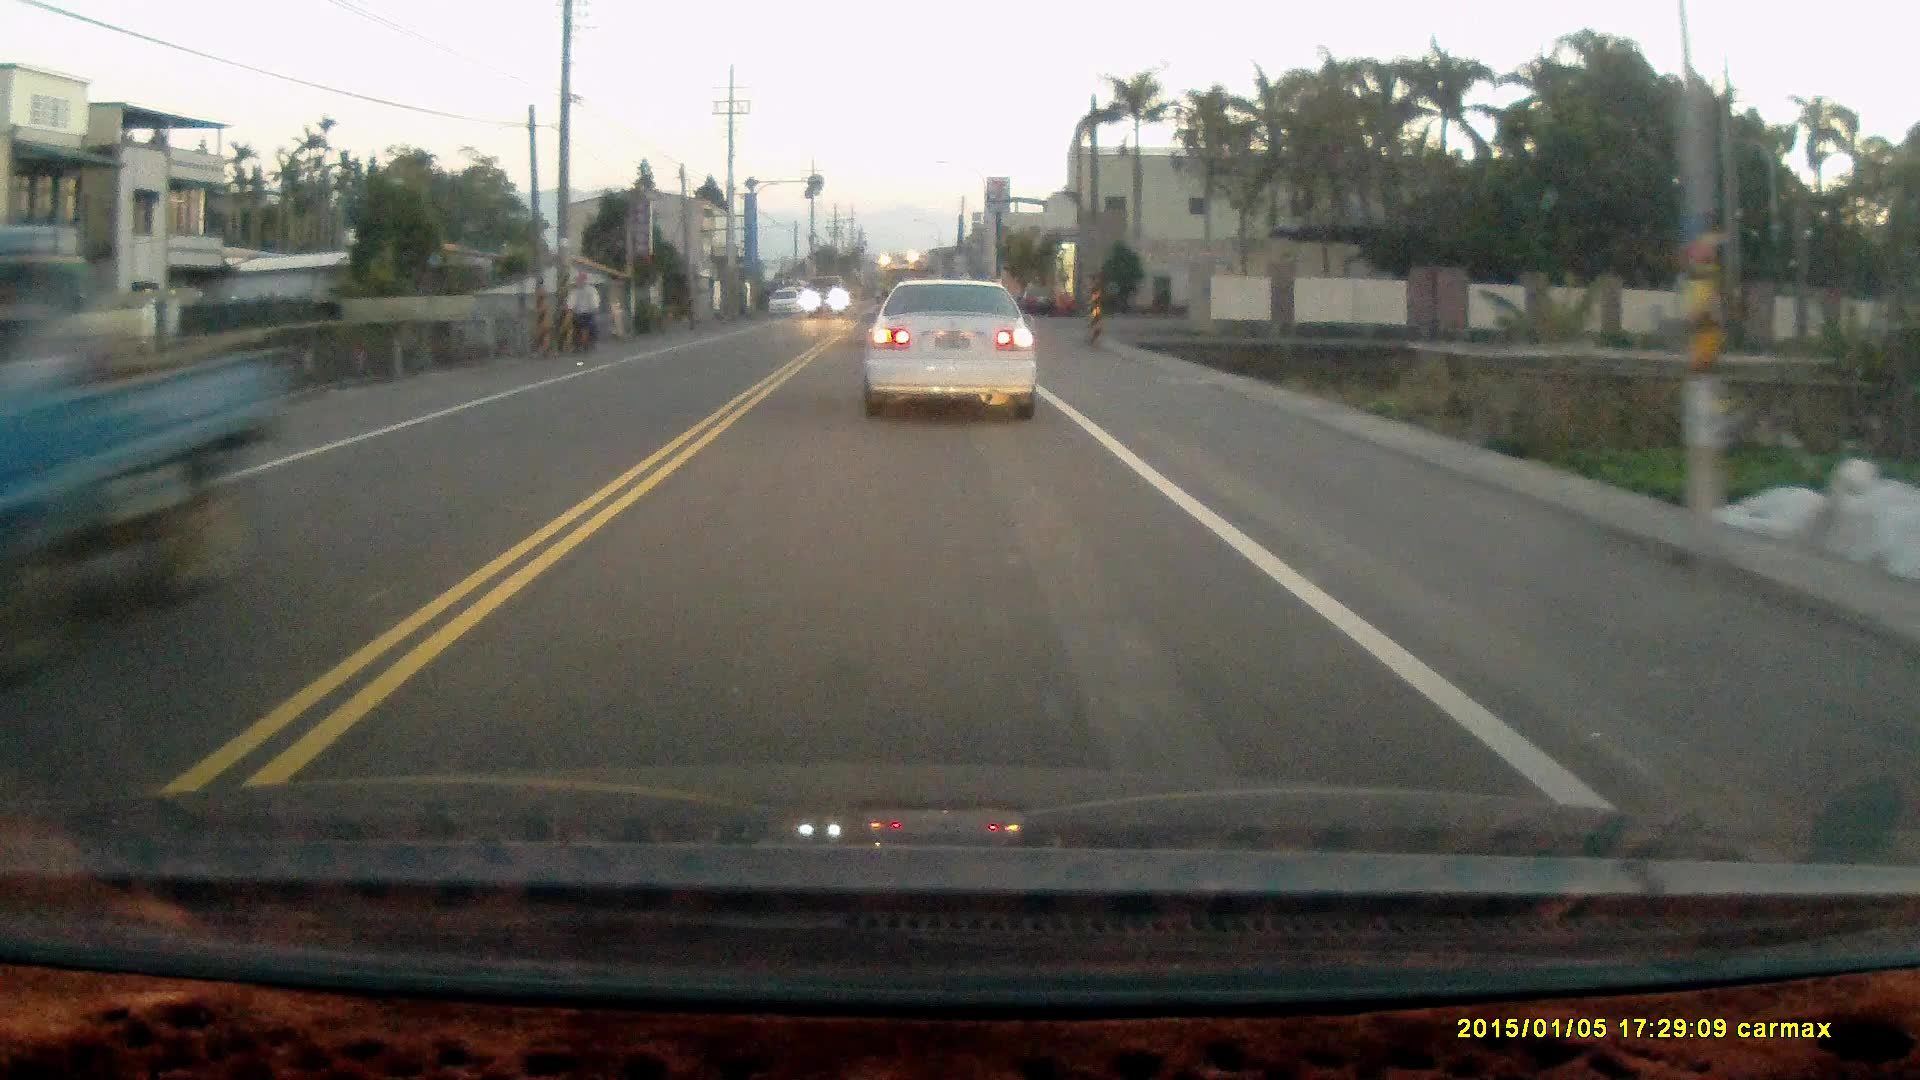rider: (561, 270, 600, 370)
vehicle: (1, 227, 288, 678), (858, 275, 1035, 420), (797, 273, 849, 319), (1019, 276, 1063, 314), (769, 289, 803, 317)
